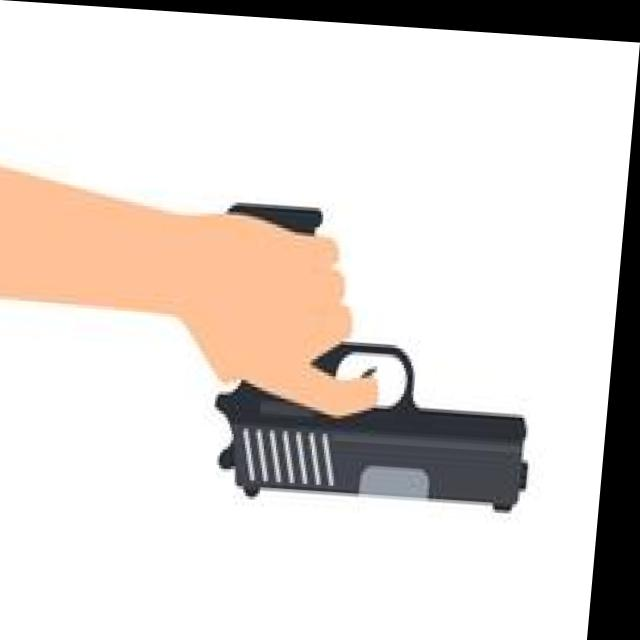handgun: (211, 199, 552, 512)
